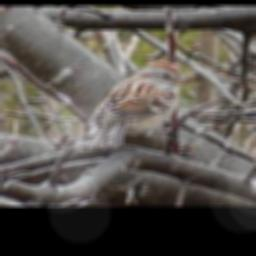Sparrow: (87, 60, 189, 152)
